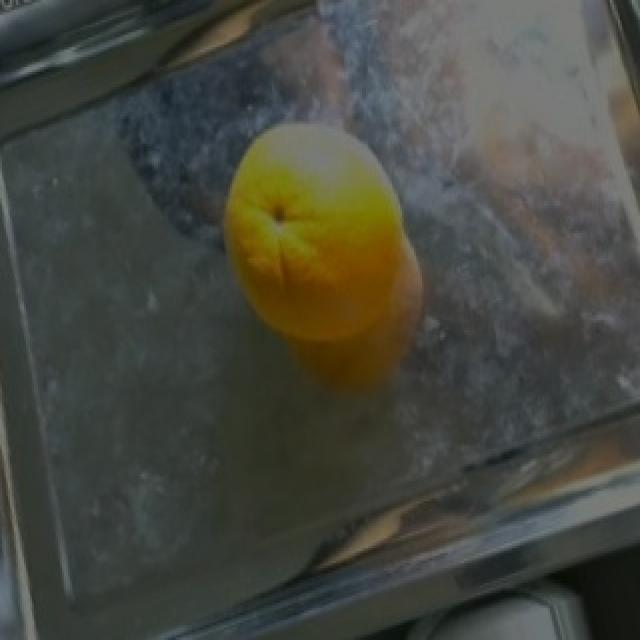Fruit: (200, 92, 444, 446)
